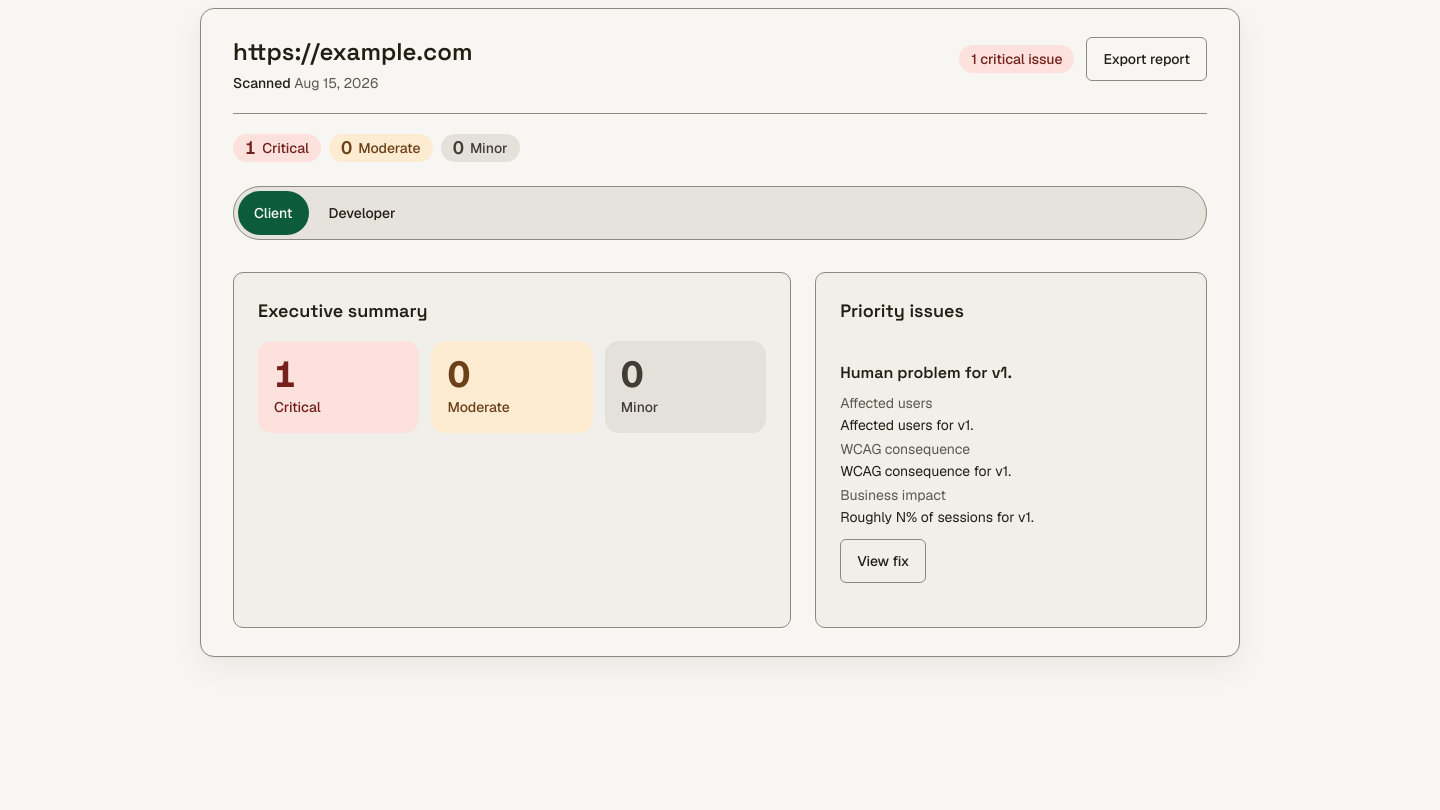
ReportSurface › VIEW_FIX_TOGGLE: a view-fix press announces the Developer option active and persists to sessionStorage
The image size is (1440, 810).
Click the button with aria-label "View fix: Human problem for v1.": (883, 561) [840,539,926,583]
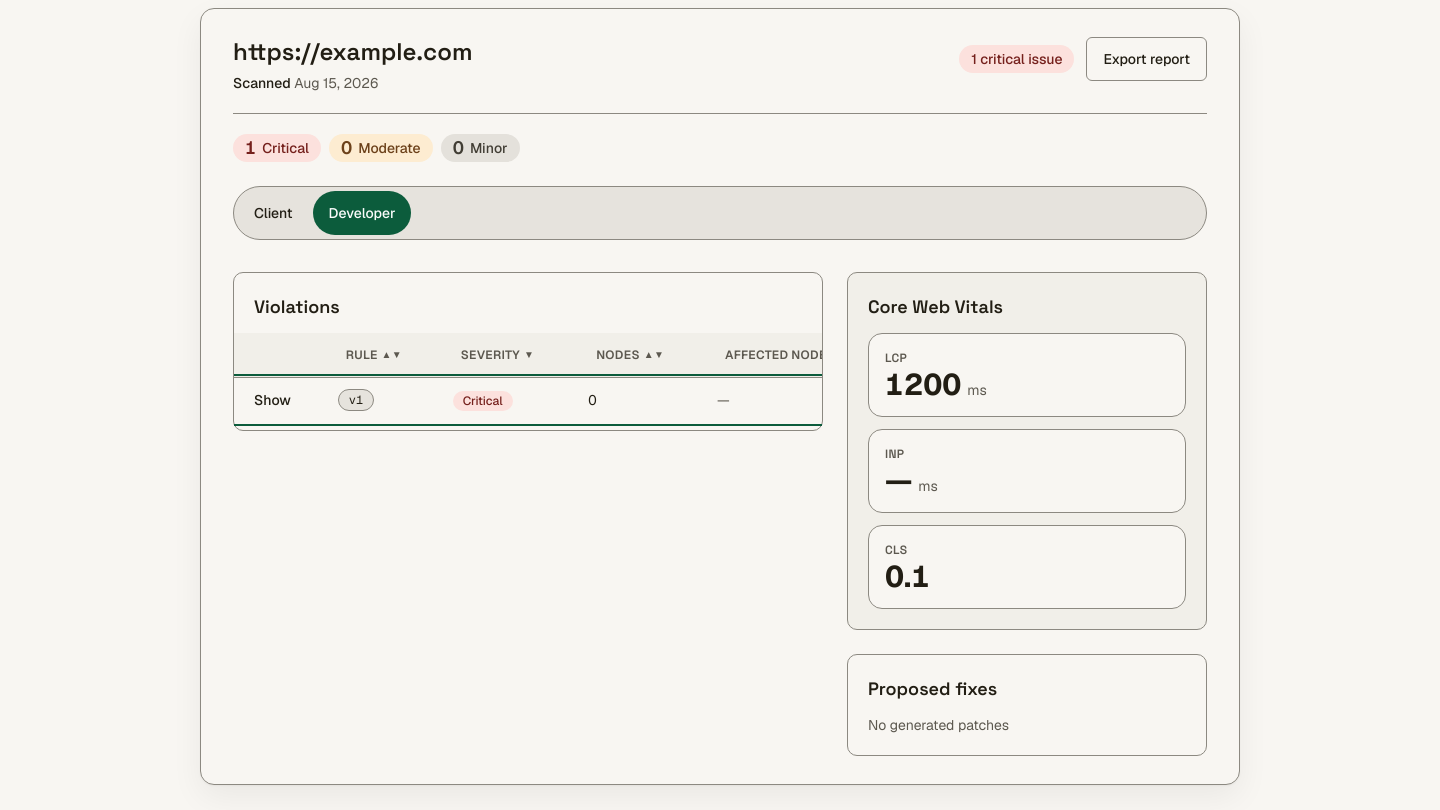
Now the element named "Developer view" is shown, box [233,240,1207,756]
